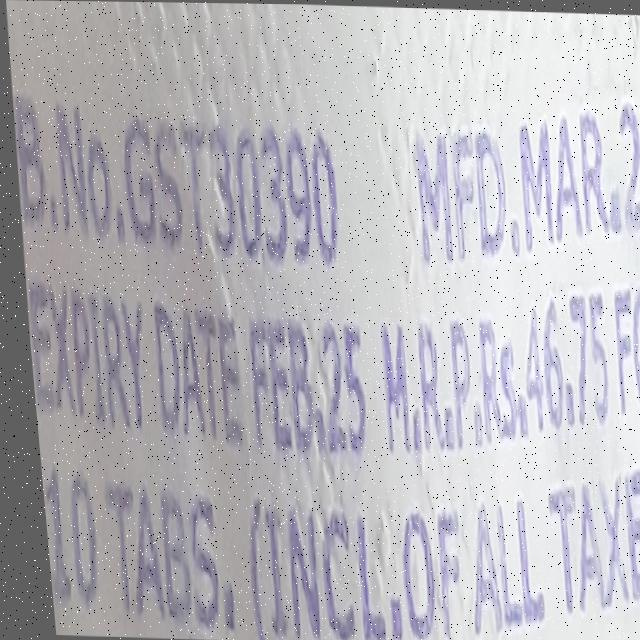sentence: (11, 83, 640, 356), (22, 275, 640, 459), (35, 462, 640, 640)
